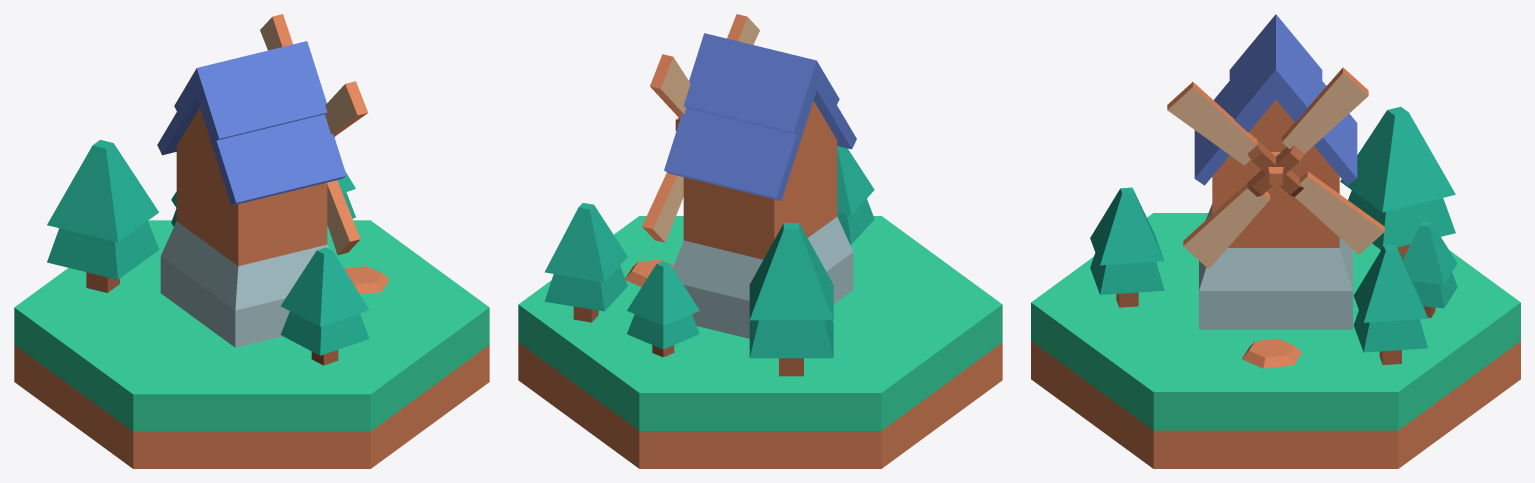
File: Building Mill.glb
The picture shows the model from 3 angles, left to right: view 1: azimuth 30°, elevation 25°; view 2: azimuth 150°, elevation 25°; view 3: azimuth 270°, elevation 25°; orthographic projection. The views are drawn at different scales.
Parts seen in each view (by area): view 1: building_mill, building, tree.003, tree.002, mill, path; view 2: building_mill, building, tree.003, tree.001, tree, mill, tree.002, path; view 3: building_mill, building, mill, tree.003, tree.002, tree.001, tree, path.
Part boxes in pixels (x1,y1,x2,y2): building_mill: (14,220,489,468); building: (157,41,346,347); tree.003: (47,139,159,292); tree.002: (280,247,369,365); mill: (260,14,368,255); path: (344,266,389,294); building_mill: (518,216,1002,468); building: (664,33,856,338); tree.003: (749,223,833,376); tree.001: (544,203,627,322); tree: (627,261,699,357); mill: (642,14,759,242); tree.002: (837,146,874,244); path: (625,259,673,286); building_mill: (1031,213,1520,468); building: (1194,14,1357,329); mill: (1167,67,1384,269); tree.003: (1340,106,1455,259); tree.002: (1090,187,1164,307); tree.001: (1353,245,1427,364); tree: (1403,221,1457,317); path: (1241,338,1301,368).
Size of the model in its own units: 1 by 0.8811 by 1.15.
